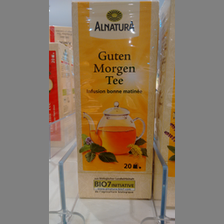tea: (71, 1, 159, 199)
